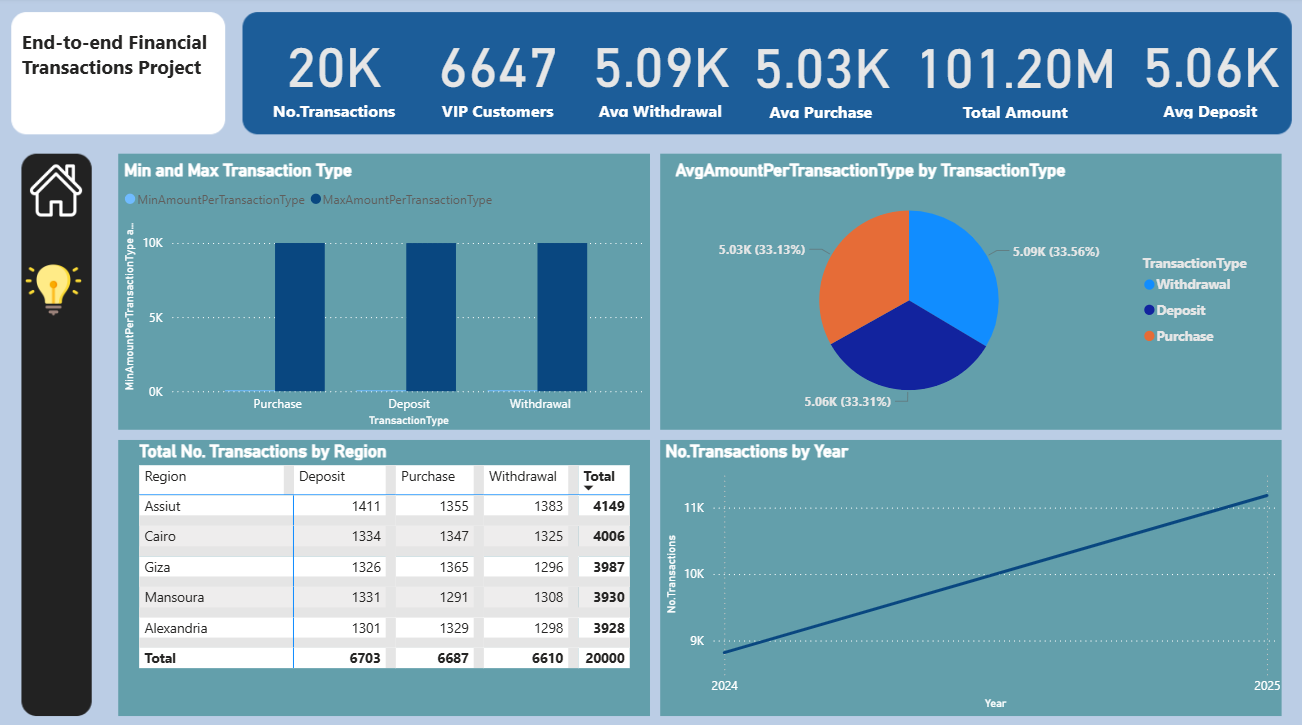

Layout of this report page (visuals, bound fields, positions):
{"tool":"powerbi","page":{"name":"Page 1","canvas":[1280,720],"ordinal":0},"visuals":[{"type":"card","fields":{"Values":["MyMeasures.Total No. Transactions"]},"box":[252.8,23.3,154.6,99.4],"z":0},{"type":"pieChart","fields":{"Category":["Dim_TransactionType.TransactionType"],"Y":["MyMeasures.AvgAmountPerTransactionType"]},"box":[660.1,159.5,592.6,257.7],"z":1000},{"type":"clusteredColumnChart","title":"Min and Max Transaction Type","fields":{"Category":["Dim_TransactionType.TransactionType"],"Y":["MyMeasures.MinAmountPerTransactionType","MyMeasures.MaxAmountPerTransactionType"]},"box":[119,159.5,521.5,267.5],"z":2000},{"type":"card","fields":{"Values":["MyMeasures.VIP Customers"]},"box":[417.2,23.3,147.2,99.4],"z":3000},{"type":"lineChart","fields":{"Category":["Date.Date.Variation.Date Hierarchy.Year","Date.Date.Variation.Date Hierarchy.Quarter","Date.Date.Variation.Date Hierarchy.Month","Date.Date.Variation.Date Hierarchy.Day"],"Y":["MyMeasures.Total No. Transactions"]},"box":[650.3,435.6,613.5,268.7],"z":3001},{"type":"card","fields":{"Values":["MyMeasures.Total Amount"]},"box":[894.5,24.5,208.6,99.4],"z":3002},{"type":"card","fields":{"Values":["MyMeasures.Avg Deposit"]},"box":[1116.6,23.3,147.2,100.6],"z":3003},{"type":"card","fields":{"Values":["MyMeasures.Avg Withdrawal"]},"box":[576.7,23.3,147.2,99.4],"z":3004},{"type":"card","fields":{"Values":["MyMeasures.Avg Purchase"]},"box":[733.7,24.5,148.5,99.4],"z":3005},{"type":"textbox","box":[18.4,25.8,201.2,96.9],"z":3006},{"type":"pivotTable","title":"Total No. Transactions by Region","fields":{"Rows":["Dim_Region.Region"],"Columns":["Dim_TransactionType.TransactionType"],"Values":["MyMeasures.Total No. Transactions"]},"box":[133.7,435.6,506.8,268.7],"z":3007},{"type":"image","box":[25.8,159.5,62.6,61.4],"z":3010},{"type":"image","box":[20.9,254,67.5,67.5],"z":3011}]}

Visuals, with their boxes in screenshot pixels (x1, y1, x2, y2), scaled from the page's 1280x720 canvas onto the 1302x725 screenshot:
card - MyMeasures.Total No. Transactions: 257, 23, 414, 124
pieChart - Dim_TransactionType.TransactionType x MyMeasures.AvgAmountPerTransactionType: 671, 161, 1274, 420
"Min and Max Transaction Type" clusteredColumnChart: 121, 161, 652, 430
card - MyMeasures.VIP Customers: 424, 23, 574, 124
lineChart - Date.Date.Variation.Date Hierarchy.Year x Date.Date.Variation.Date Hierarchy.Quarter: 661, 439, 1286, 709
card - MyMeasures.Total Amount: 910, 25, 1122, 125
card - MyMeasures.Avg Deposit: 1136, 23, 1286, 125
card - MyMeasures.Avg Withdrawal: 587, 23, 736, 124
card - MyMeasures.Avg Purchase: 746, 25, 897, 125
textbox: 19, 26, 223, 124
"Total No. Transactions by Region" pivotTable: 136, 439, 652, 709
image: 26, 161, 90, 222
image: 21, 256, 90, 324
